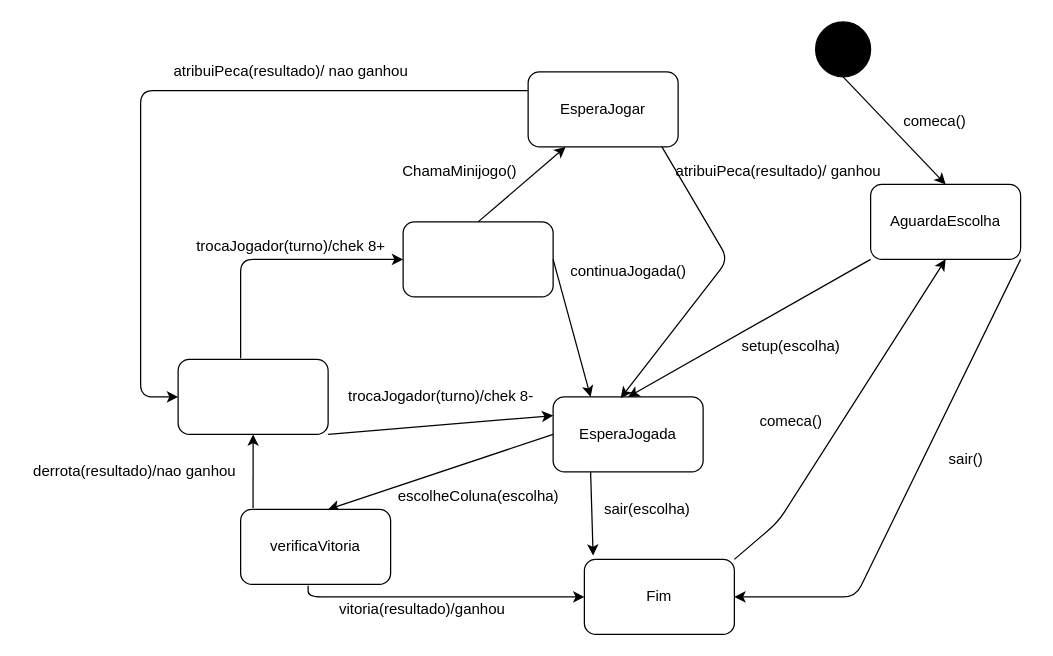
The diagram is 1053 pixels wide and 656 high, and some of its shapes have lost their labels. Each missing label, with the centre of its shape:
"EsperaResposta" goes at point 477,259.
"Inicio" goes at point 842,49.
"ProximoPlayer" goes at point 252,396.
